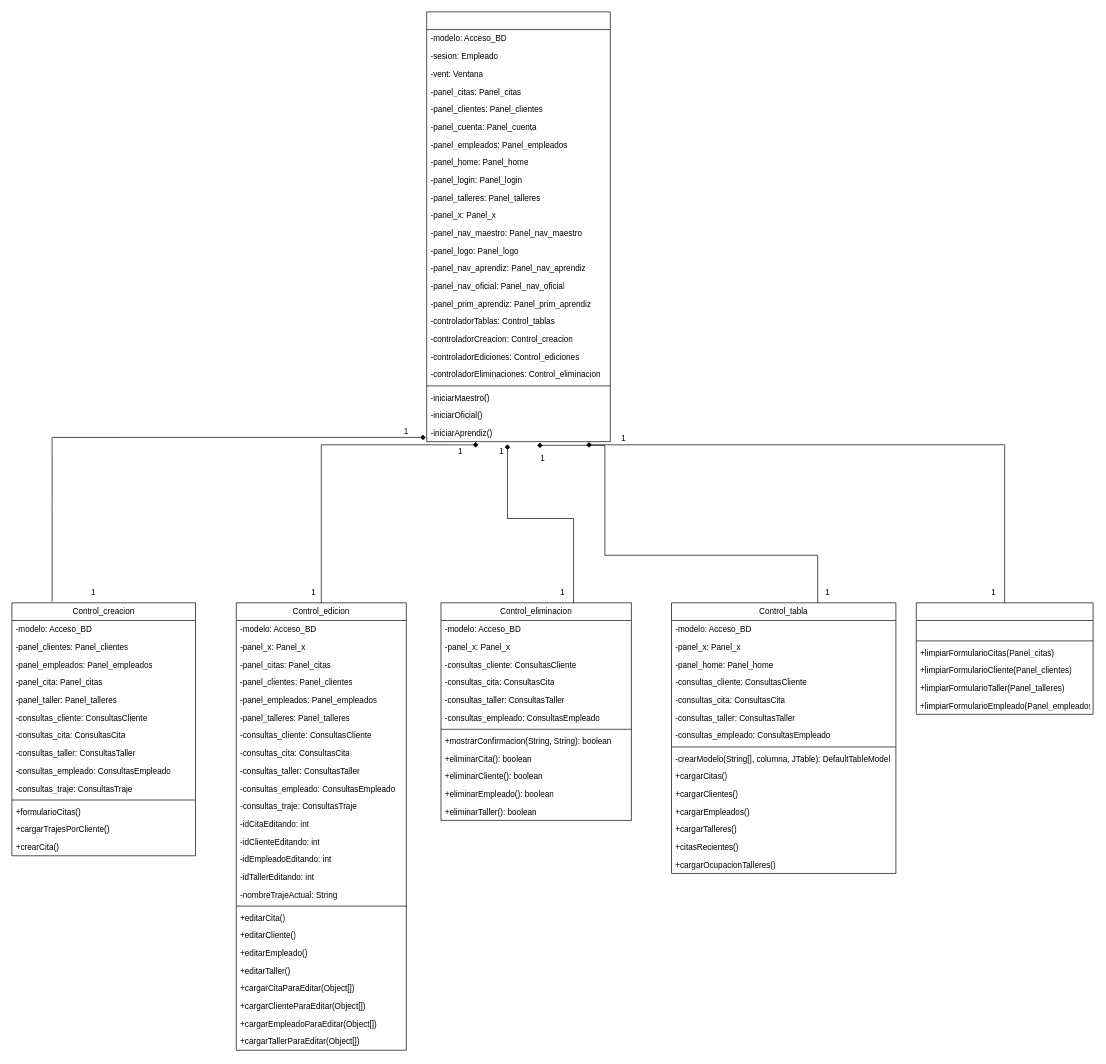
Some shapes in this 1106 by 1064 pixel diagram are drawn without their labels. Each missing label, with the box of its shape:
Listener: (426, 11, 610, 442)
Utilidad: (916, 602, 1093, 714)
